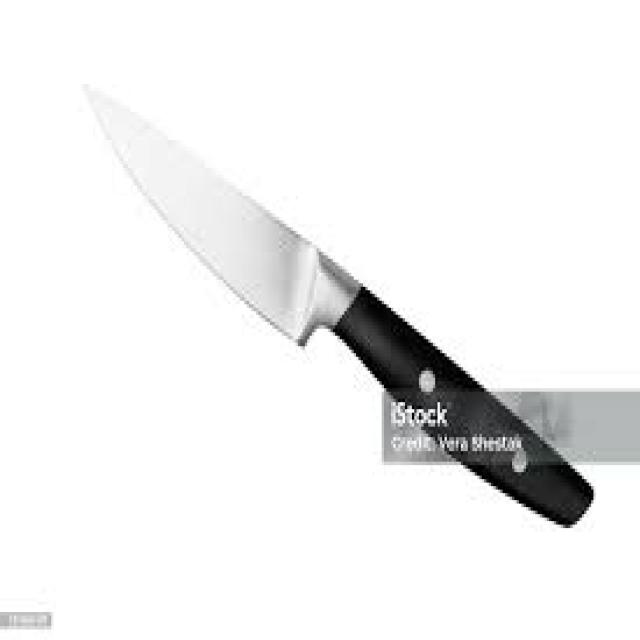Knife: (84, 80, 596, 525)
